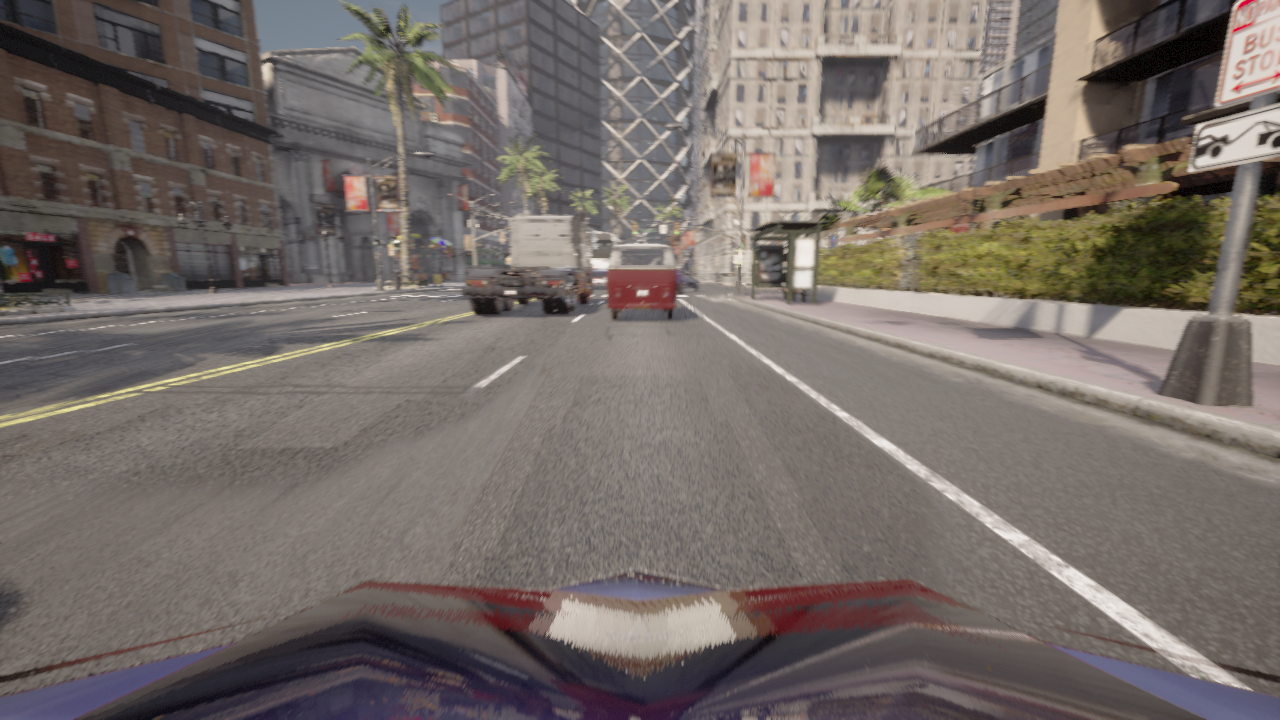cyclist: (0, 569, 1279, 719), (462, 211, 597, 314), (607, 243, 677, 319), (589, 231, 619, 282), (677, 270, 701, 292)
